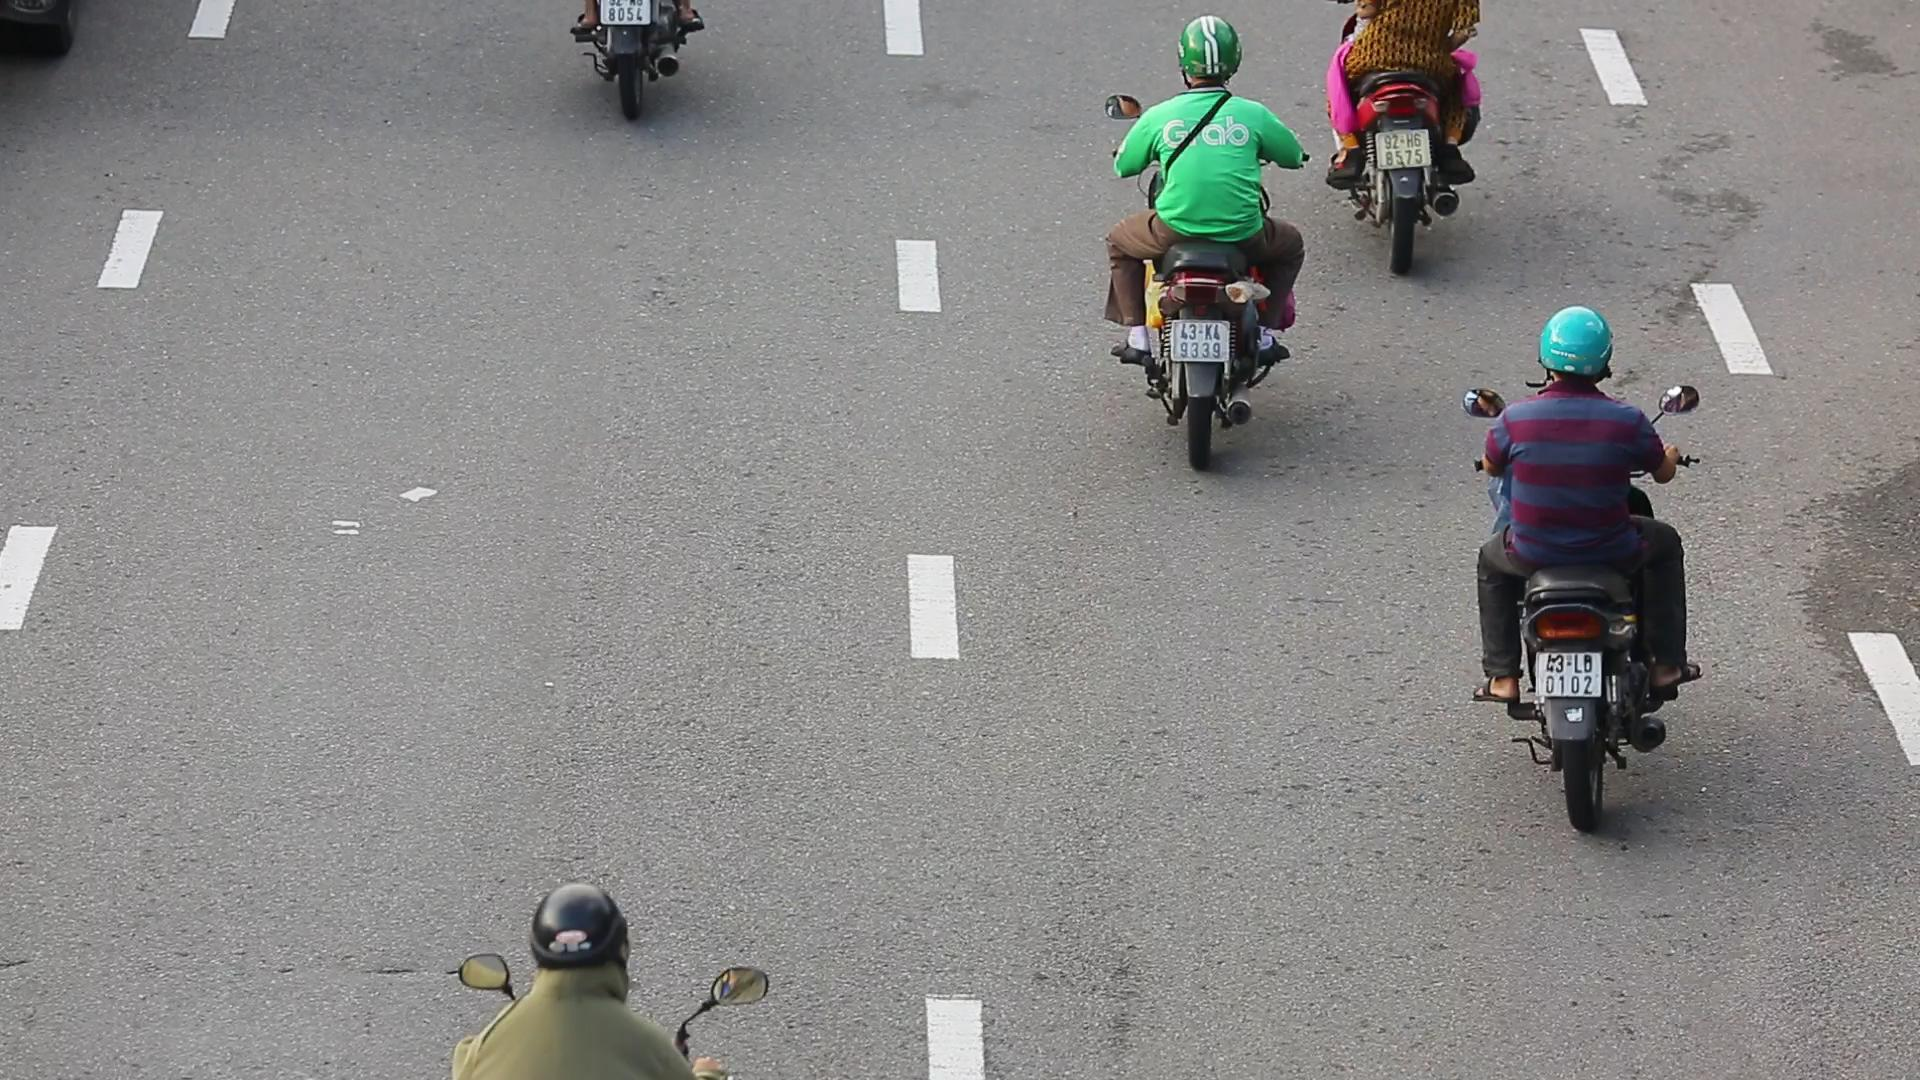motobike: (1481, 305, 1714, 839), (1092, 0, 1320, 484)
